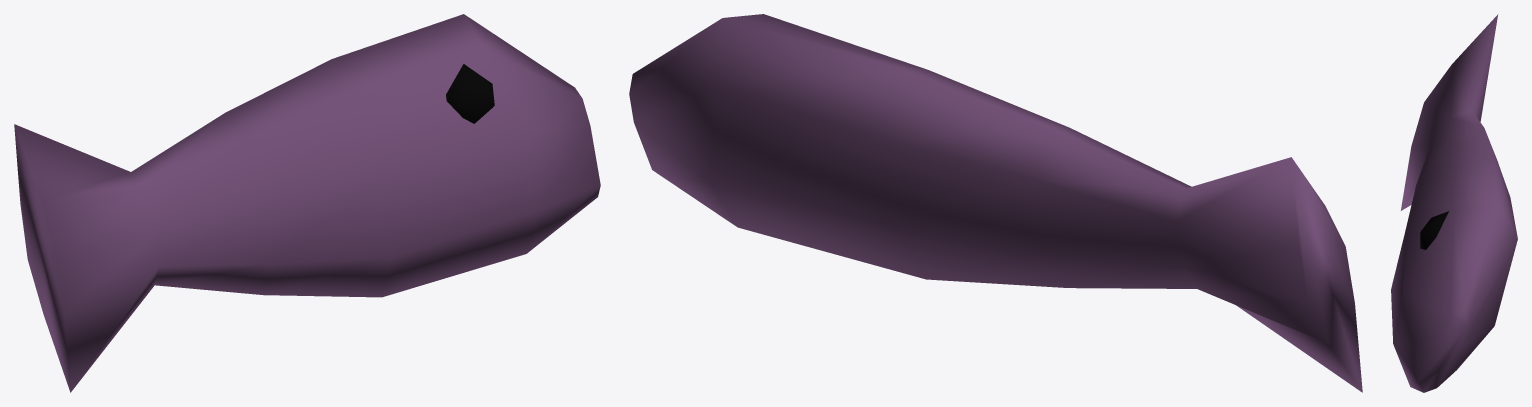
The model's file is Fish_Item.fbx.
3 renders of one model, left to right at view 1: azimuth 30°, elevation 25°; view 2: azimuth 150°, elevation 25°; view 3: azimuth 270°, elevation 25°, orthographic. The views are drawn at different scales.
Visible parts, largest first — view 1: Fish; view 2: Fish; view 3: Fish.
Boxes of the visible parts, x1,y1,x2,y2 form: Fish: (14,14,600,392); Fish: (629,14,1362,392); Fish: (1391,14,1517,392).
Bounding box in the file's own units: 252 × 102 × 59.24.
